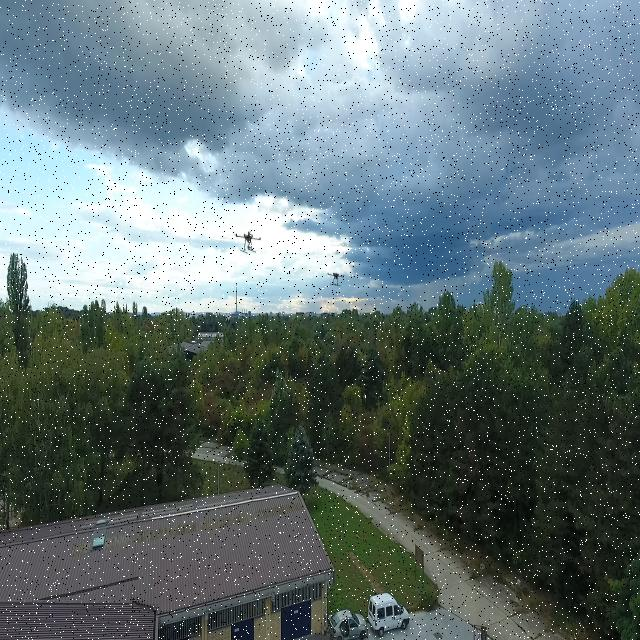UAV: (228, 226, 268, 257), (313, 262, 358, 289)
